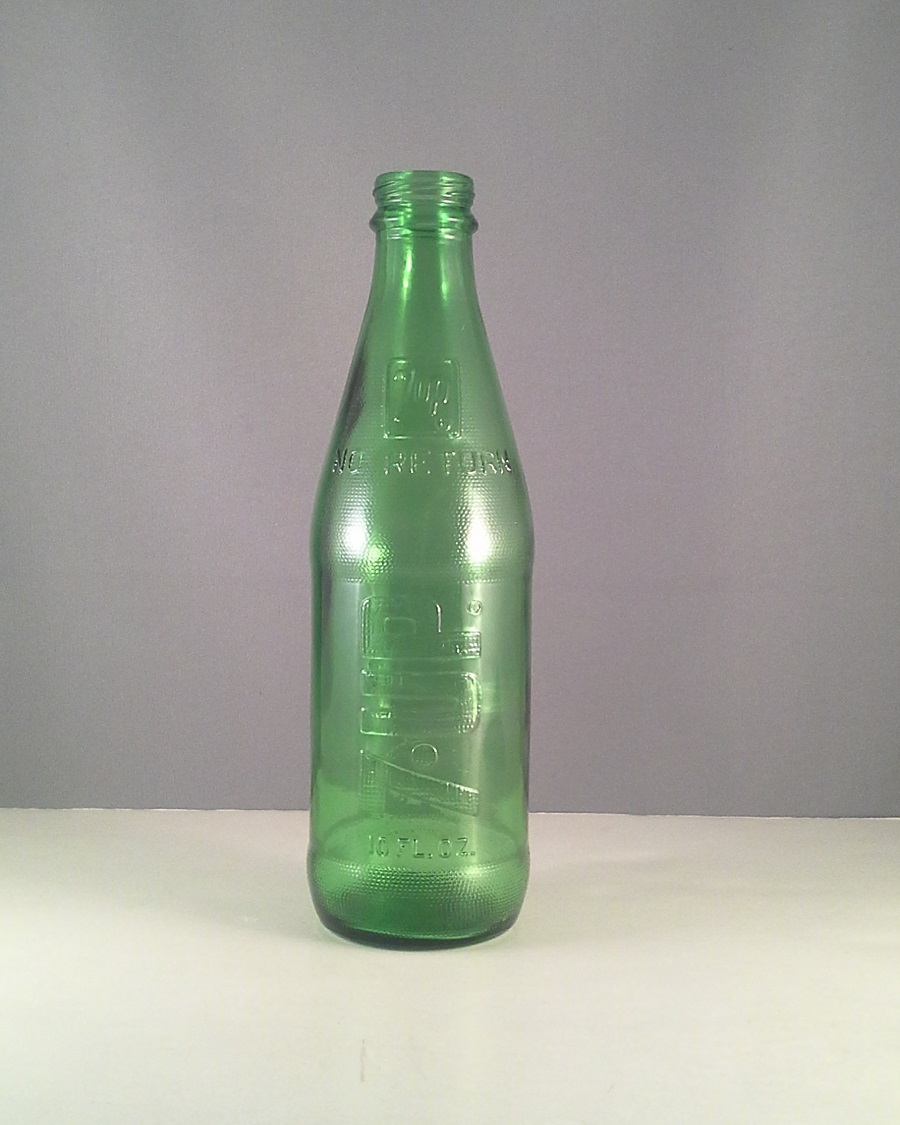Rec_Glass: (281, 112, 555, 970)
